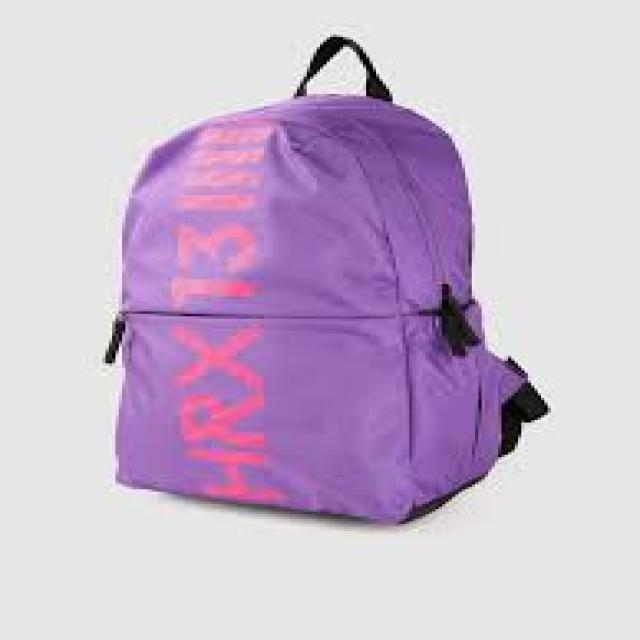backpack: (102, 34, 548, 524)
